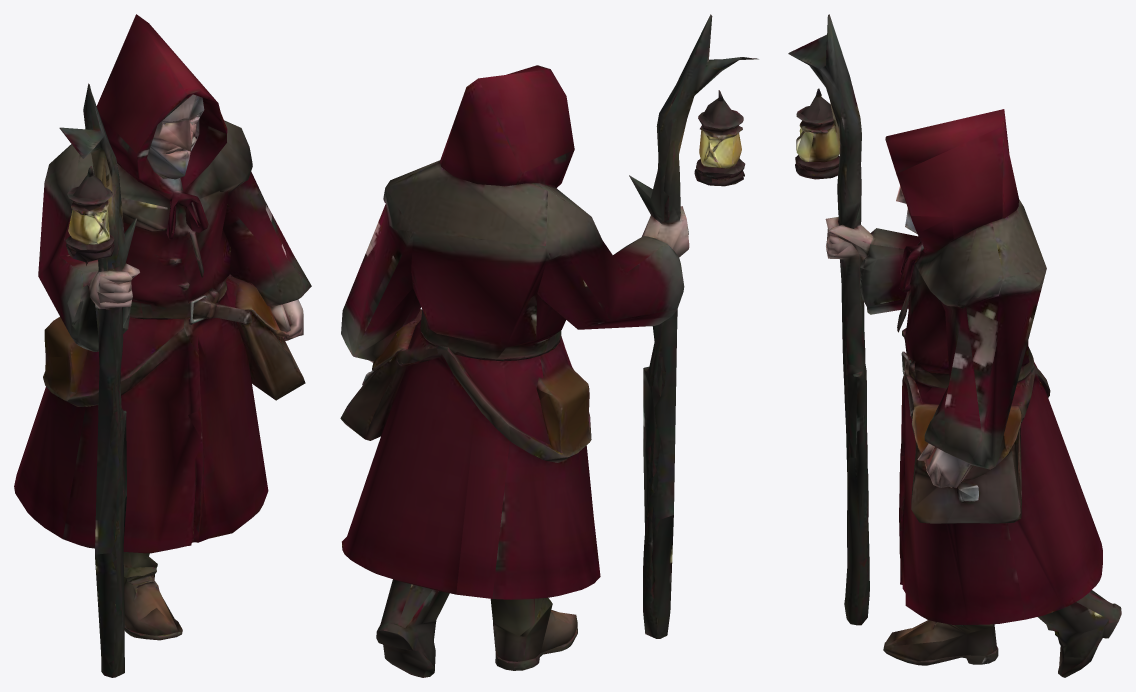
Rendered from wizard.glb.
The picture shows the model from 3 angles, left to right: view 1: azimuth 30°, elevation 25°; view 2: azimuth 150°, elevation 25°; view 3: azimuth 270°, elevation 25°; orthographic projection. The views are drawn at different scales.
Parts seen in each view (by area): view 1: Mesh; view 2: Mesh; view 3: Mesh.
Boxes of the visible parts, box(x1,y1,x2,y2) form: Mesh: box(14, 14, 311, 677); Mesh: box(340, 14, 758, 677); Mesh: box(788, 14, 1121, 677).
Size of the model in its own units: 1.03 by 1.91 by 0.9778.
1 material, 1 textured.
